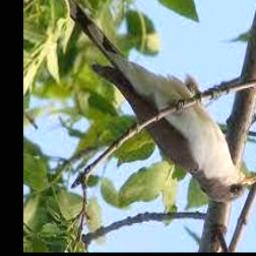Cuckoo: (56, 0, 256, 202)
